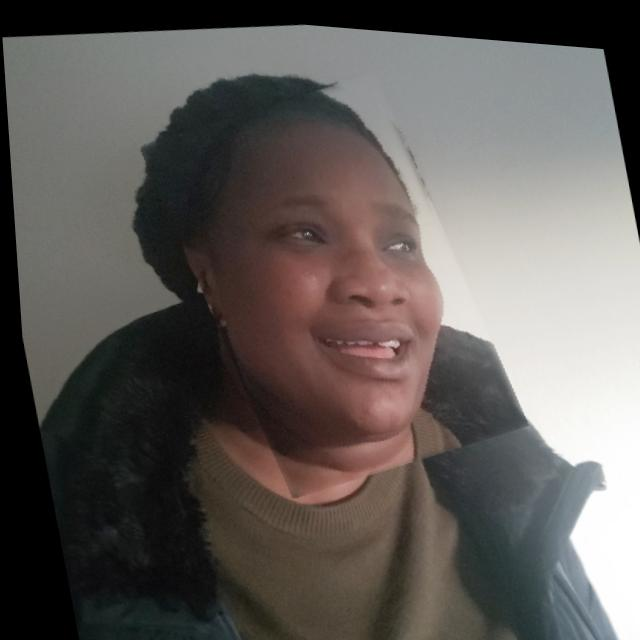happy: (146, 56, 514, 504)
